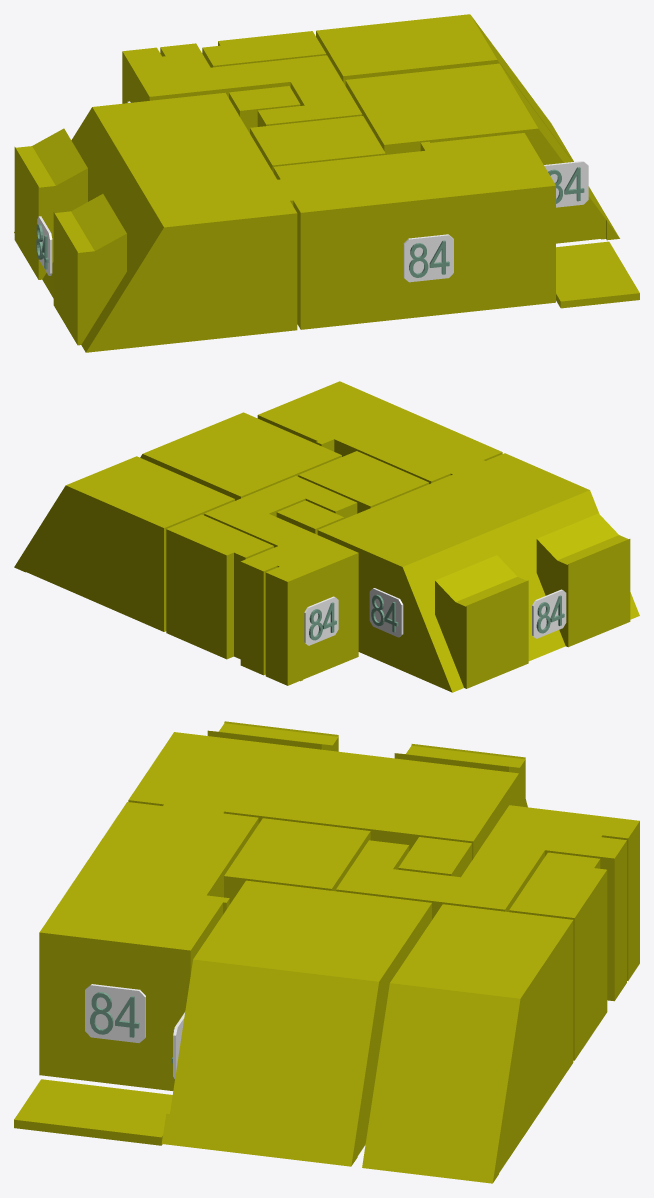
3 views of the same model, one above another, from view 1: azimuth 30°, elevation 25°; view 2: azimuth 150°, elevation 25°; view 3: azimuth 270°, elevation 25° (orthographic). The views are drawn at different scales.
Parts seen in each view (by area): view 1: g_0, g_1, g_2, g_5, g_3, g_4, g_8, g_7, g_6, g_26, g_20; view 2: g_0, g_3, g_5, g_1, g_7, g_2, g_4, g_6, g_23, g_17, g_14; view 3: g_2, g_3, g_1, g_0, g_5, g_7, g_4, g_8, g_11, g_6.
Part boxes in pixels (x1=…): g_0: x1=14, y1=92, x2=297, y2=352; g_1: x1=273, y1=133, x2=555, y2=329; g_2: x1=345, y1=63, x2=619, y2=243; g_5: x1=122, y1=43, x2=362, y2=126; g_3: x1=316, y1=14, x2=573, y2=161; g_4: x1=250, y1=116, x2=385, y2=172; g_8: x1=556, y1=241, x2=639, y2=308; g_7: x1=202, y1=31, x2=326, y2=67; g_6: x1=229, y1=86, x2=300, y2=133; g_26: x1=403, y1=234, x2=453, y2=282; g_20: x1=544, y1=161, x2=588, y2=207; g_0: x1=317, y1=453, x2=639, y2=692; g_3: x1=14, y1=456, x2=234, y2=631; g_5: x1=204, y1=476, x2=358, y2=685; g_1: x1=257, y1=381, x2=502, y2=483; g_7: x1=166, y1=514, x2=273, y2=659; g_2: x1=140, y1=412, x2=341, y2=500; g_4: x1=298, y1=451, x2=428, y2=513; g_6: x1=276, y1=500, x2=343, y2=534; g_23: x1=369, y1=588, x2=403, y2=637; g_17: x1=532, y1=589, x2=566, y2=638; g_14: x1=304, y1=596, x2=338, y2=645; g_2: x1=161, y1=880, x2=431, y2=1166; g_3: x1=362, y1=904, x2=573, y2=1183; g_1: x1=39, y1=802, x2=258, y2=1090; g_0: x1=128, y1=721, x2=527, y2=860; g_5: x1=336, y1=805, x2=639, y2=1001; g_7: x1=509, y1=852, x2=607, y2=1060; g_4: x1=224, y1=818, x2=370, y2=904; g_8: x1=14, y1=1079, x2=172, y2=1145; g_11: x1=85, y1=984, x2=145, y2=1042; g_6: x1=398, y1=837, x2=471, y2=877.
Size of the model in its own units: 13.31 by 2.71 by 10.12.
